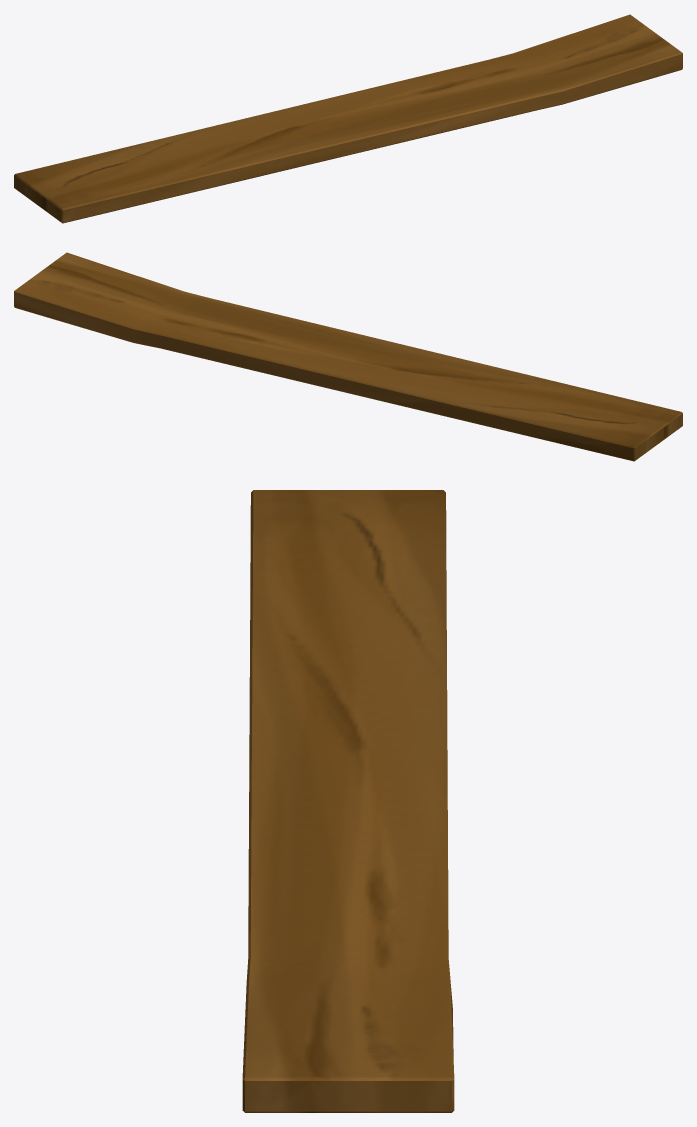
The model's file is Mesh_WoodBuilding_BentPlank.fbx.
The picture shows the model from 3 angles, top to bottom: view 1: azimuth 30°, elevation 25°; view 2: azimuth 150°, elevation 25°; view 3: azimuth 270°, elevation 25°; orthographic projection. The views are drawn at different scales.
Visible parts, largest first — view 1: polySurface127; view 2: polySurface127; view 3: polySurface127.
Part boxes in pixels (<box>): polySurface127: <box>14,14,682,223</box>; polySurface127: <box>14,252,682,461</box>; polySurface127: <box>242,490,454,1112</box>.
Size of the model in its own units: 154 by 5.74 by 22.78.
